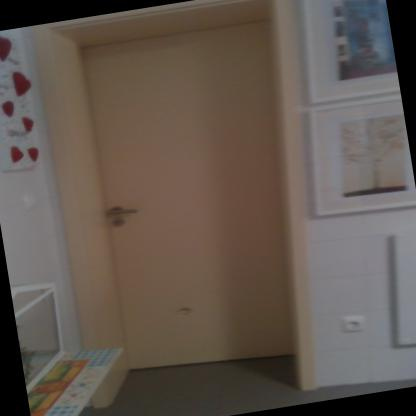closed: (37, 0, 353, 386)
